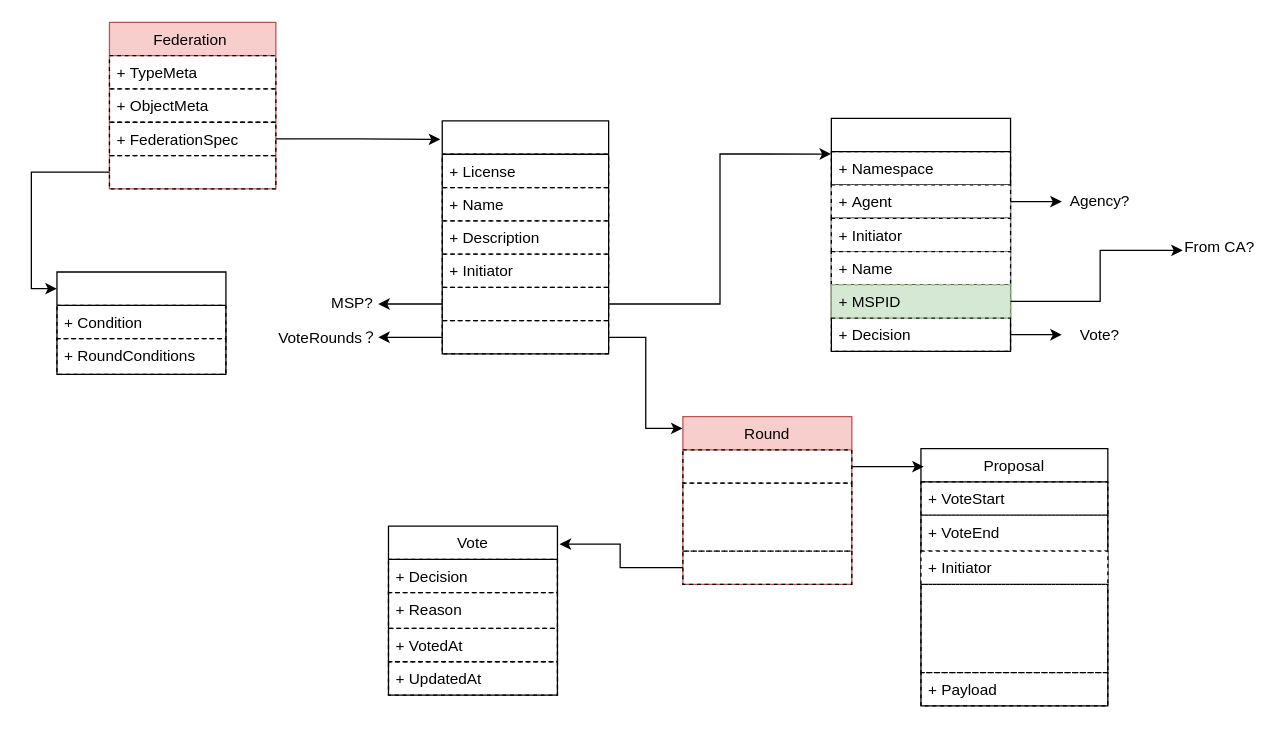
Image size: 1280x732. Some labels were removed from this diagram. The shapes that lost their labels are listed below. From the top down, each one's box as (x1, y1, x2, y2) in pixels, then its label:
(108, 154, 276, 189): + FederationStatus
(441, 120, 609, 354): FederationSpec
(830, 117, 1011, 351): FederationMember
(56, 271, 226, 374): FederationStatus
(441, 286, 609, 321): + Official [map]
(441, 319, 609, 354): + Rounds [map]
(682, 449, 852, 483): + Proposal
(682, 482, 852, 551): + PolicyKind - Any - Majority
(682, 550, 852, 584): + Votes [map]
(920, 583, 1108, 673): + Kind - NewMemberProposal - ExpelMember - DissolveMember
